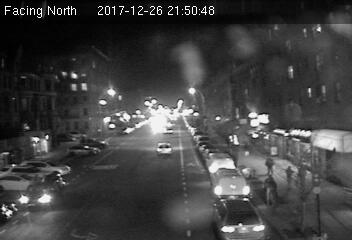car: (211, 195, 272, 238), (20, 175, 66, 211), (156, 142, 173, 156)
pedestrian: (265, 156, 276, 177)
truck: (211, 167, 248, 196)
